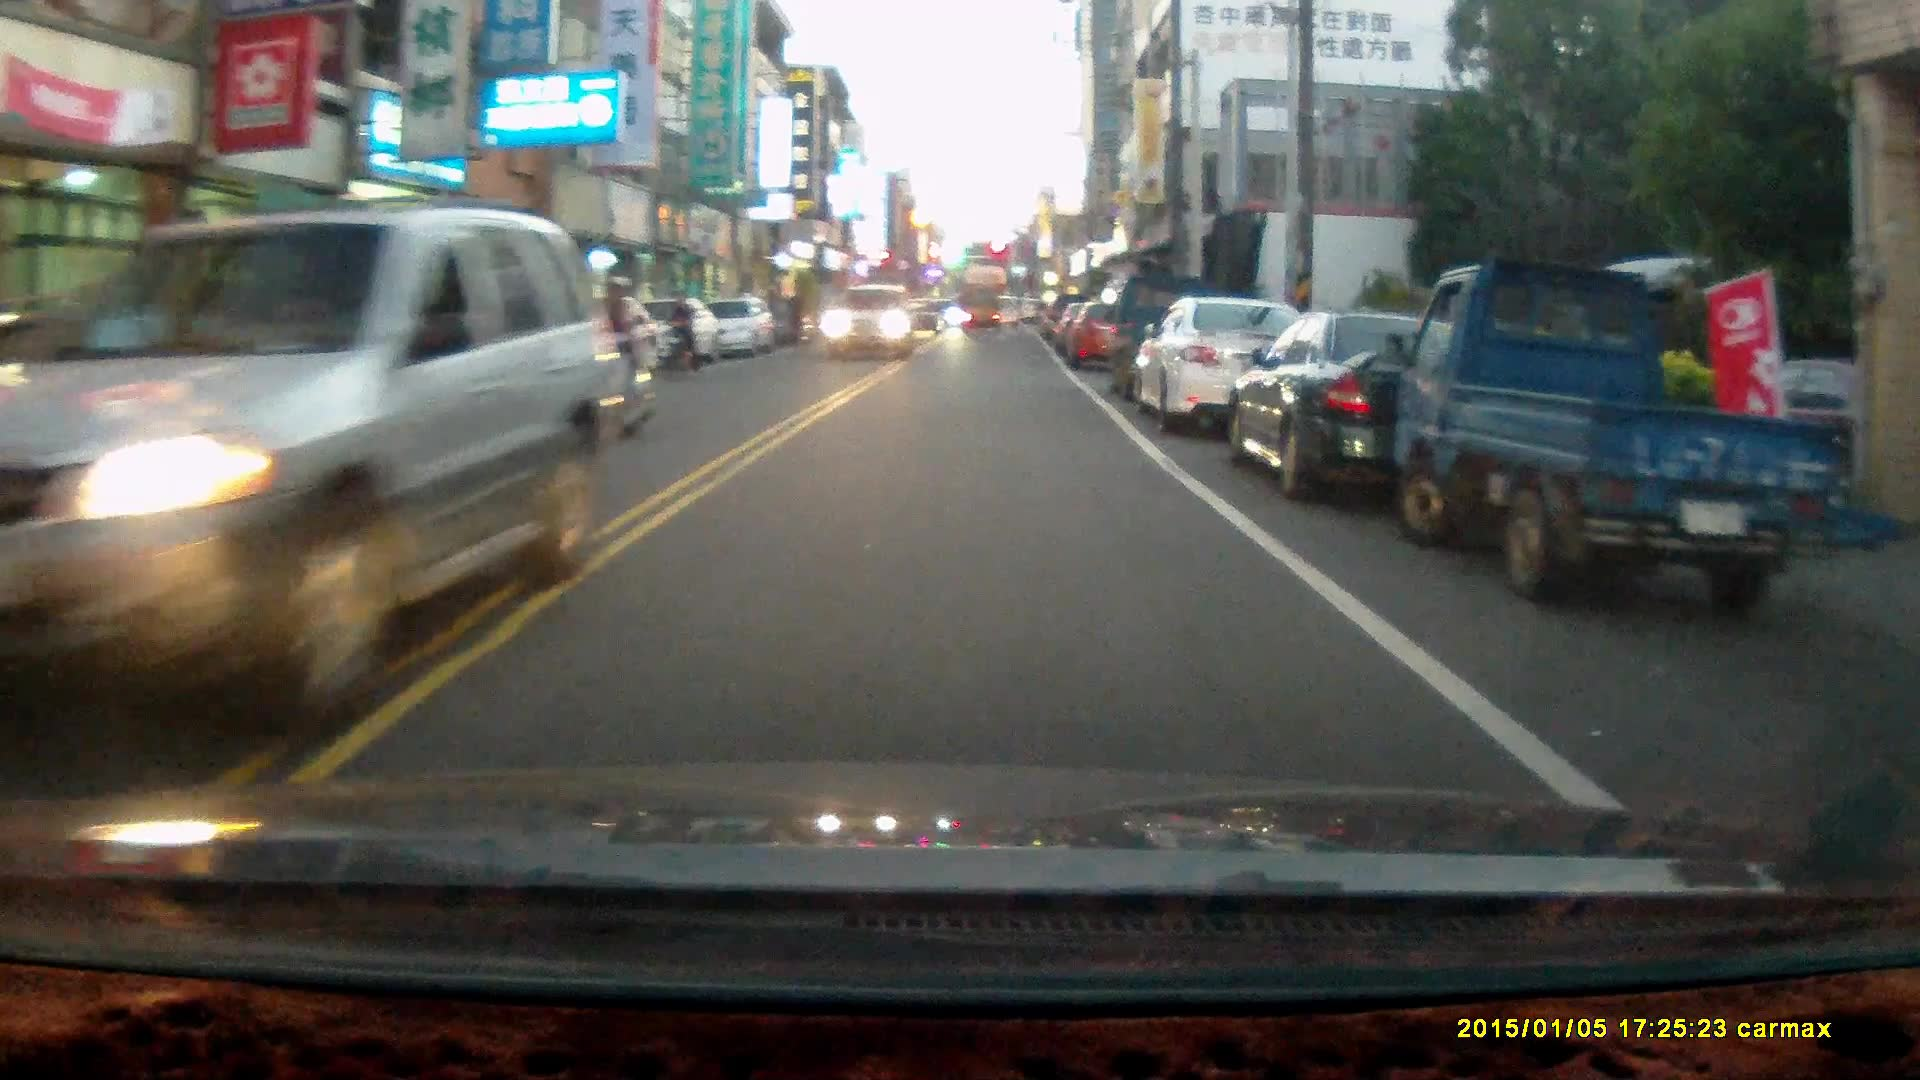pedestrian: (787, 282, 808, 342)
rider: (576, 275, 657, 448), (661, 291, 703, 376)
vehicle: (1, 203, 631, 718), (1392, 257, 1868, 608), (1227, 310, 1588, 513), (1134, 296, 1327, 441), (820, 284, 916, 364), (1068, 300, 1149, 374), (706, 295, 784, 362), (961, 286, 1003, 336)
